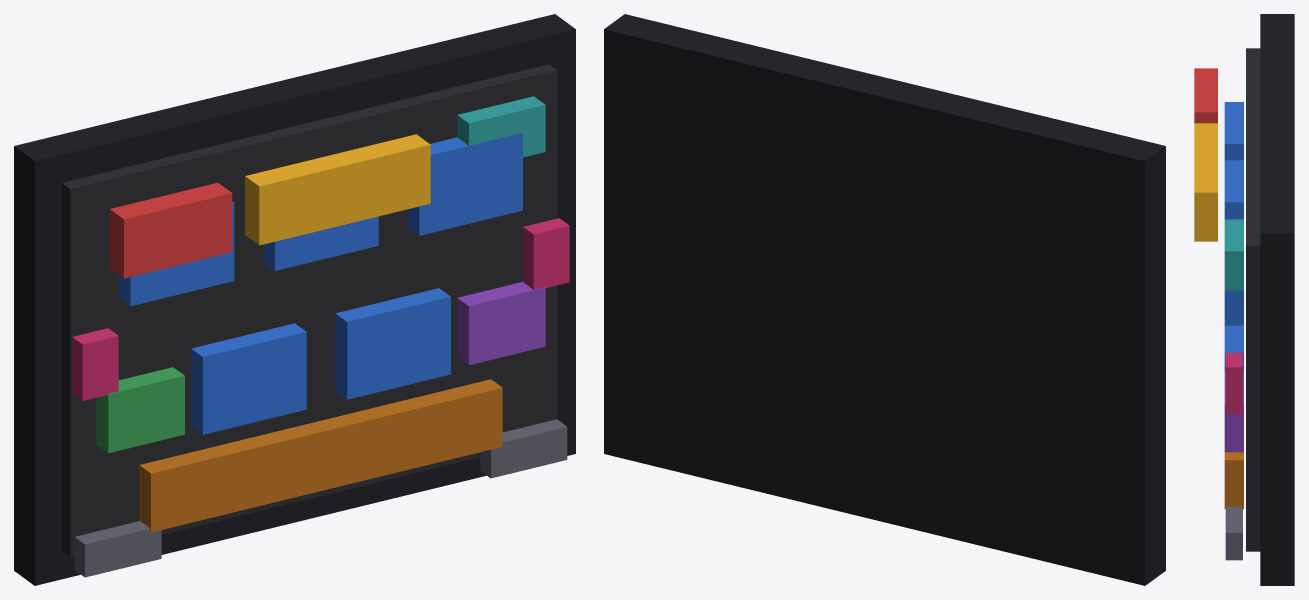
The model's file is AI_Optimized_CPU.obj.
3 renders of one model, left to right at view 1: azimuth 30°, elevation 25°; view 2: azimuth 150°, elevation 25°; view 3: azimuth 270°, elevation 25°, orthographic. The views are drawn at different scales.
Bounding box in the file's own units: 12 × 9 × 2.32.
